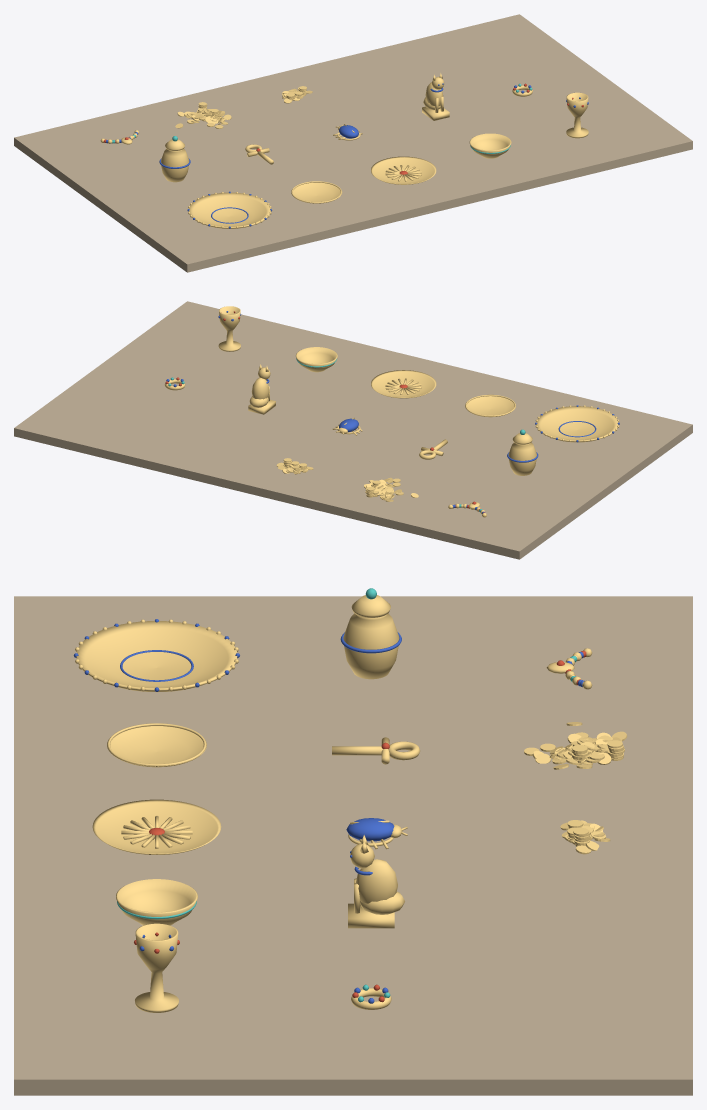
Rendered from treasure.glb.
3 renders of one model, top to bottom at view 1: azimuth 30°, elevation 25°; view 2: azimuth 150°, elevation 25°; view 3: azimuth 270°, elevation 25°, orthographic. The views are drawn at different scales.
Parts seen in each view (by area): view 1: Preview_Table, Trinket_Plate_Large, Trinket_Plate_Sunburst, Trinket_Jar, Trinket_Plate_Small, Trinket_Bowl, Trinket_CatStatue, Trinket_Coins_Pile, Trinket_Goblet; view 2: Preview_Table, Trinket_Plate_Large, Trinket_Plate_Sunburst, Trinket_Jar, Trinket_Plate_Small, Trinket_CatStatue, Trinket_Bowl, Trinket_Goblet, Trinket_Coins_Pile; view 3: Preview_Table, Trinket_Plate_Large, Trinket_Plate_Sunburst, Trinket_Jar, Trinket_Plate_Small, Trinket_CatStatue, Trinket_Bowl, Trinket_Goblet, Trinket_Coins_Pile, Trinket_Scarab, Trinket_Ankh, Trinket_Coins_Small (+1 smaller).
Part boxes in pixels (<box>): Preview_Table: <box>14,14,692,272</box>; Trinket_Plate_Large: <box>187,191,272,228</box>; Trinket_Plate_Sunburst: <box>371,156,436,184</box>; Trinket_Jar: <box>159,136,190,182</box>; Trinket_Plate_Small: <box>291,181,342,203</box>; Trinket_Bowl: <box>469,133,511,158</box>; Trinket_CatStatue: <box>422,73,449,120</box>; Trinket_Coins_Pile: <box>175,102,231,128</box>; Trinket_Goblet: <box>566,92,588,138</box>; Preview_Table: <box>14,301,692,559</box>; Trinket_Plate_Large: <box>535,405,619,442</box>; Trinket_Plate_Sunburst: <box>371,370,436,398</box>; Trinket_Jar: <box>507,429,538,475</box>; Trinket_Plate_Small: <box>465,394,515,417</box>; Trinket_CatStatue: <box>248,364,275,414</box>; Trinket_Bowl: <box>296,347,337,372</box>; Trinket_Goblet: <box>218,306,241,351</box>; Trinket_Coins_Pile: <box>364,477,418,501</box>; Preview_Table: <box>14,596,692,1095</box>; Trinket_Plate_Large: <box>73,619,239,692</box>; Trinket_Plate_Sunburst: <box>92,799,221,854</box>; Trinket_Jar: <box>340,588,401,679</box>; Trinket_Plate_Small: <box>107,723,206,767</box>; Trinket_CatStatue: <box>348,835,404,928</box>; Trinket_Bowl: <box>116,879,197,925</box>; Trinket_Goblet: <box>134,923,179,1012</box>; Trinket_Coins_Pile: <box>524,722,627,769</box>; Trinket_Scarab: <box>346,818,407,849</box>; Trinket_Ankh: <box>332,737,420,764</box>; Trinket_Coins_Small: <box>560,820,610,854</box>.
Size of the model in its own units: 3.2 by 0.3075 by 1.9.
